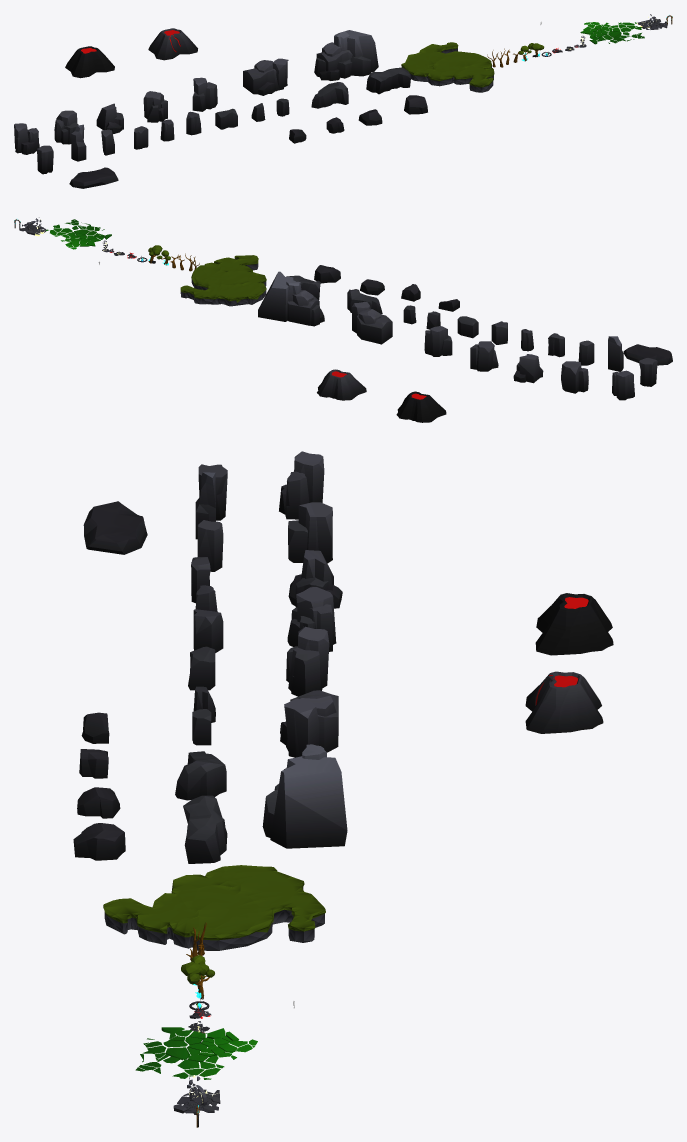
File: Todo.fbx
3 views of the same model, one above another, from view 1: azimuth 30°, elevation 25°; view 2: azimuth 150°, elevation 25°; view 3: azimuth 270°, elevation 25° (orthographic). The views are drawn at different scales.
Visible parts, largest first — view 1: floating_island_1.1, Cliff_07, Cliff_06, Volcano1, Volcano2, Piso_Detalle1, Cliff_Rock_11, Cliff_05, Cliff_Rock_10, Rock_Floor_01, Cliff_01, Cliff_04 (+11 smaller); view 2: floating_island_1.1, Cliff_07, Cliff_06, Volcano2, Volcano1, Piso_Detalle1, Cliff_02, Cliff_05, Cliff_04, Rock_Floor_01, Cliff_03, Cliff_01 (+9 smaller); view 3: floating_island_1.1, Cliff_07, Volcano2, Volcano1, Piso_Detalle1, Cliff_06, Rock_Floor_01, Cliff_Rock_11, Cliff_05, Cliff_02, Cliff_01, Cliff_Rock_10 (+8 smaller).
Boxes of the visible parts, x1,y1,x2,y2 form: floating_island_1.1: (401,42,494,92); Cliff_07: (314,30,378,80); Cliff_06: (243,58,288,95); Volcano1: (65,46,114,78); Volcano2: (148,28,197,60); Piso_Detalle1: (580,22,644,44); Cliff_Rock_11: (366,67,410,94); Cliff_05: (192,77,217,111); Cliff_Rock_10: (311,82,348,108); Rock_Floor_01: (69,167,118,188); Cliff_01: (14,123,39,154); Cliff_04: (143,91,167,122); floating_island_1.1: (180,255,266,306); Cliff_07: (258,271,324,326); Cliff_06: (351,302,392,344); Volcano2: (317,369,366,400); Volcano1: (396,391,446,422); Piso_Detalle1: (46,219,111,249); Cliff_02: (561,361,588,393); Cliff_05: (424,326,452,356); Cliff_04: (470,341,498,371); Rock_Floor_01: (623,344,672,365); Cliff_03: (513,354,543,383); Cliff_01: (612,370,634,400); floating_island_1.1: (103,865,325,950); Cliff_07: (262,744,347,848); Volcano2: (525,671,603,733); Volcano1: (535,593,613,655); Piso_Detalle1: (135,1027,257,1079); Cliff_06: (280,690,338,757); Rock_Floor_01: (83,501,147,554); Cliff_Rock_11: (183,795,227,863); Cliff_05: (286,626,329,696); Cliff_02: (288,502,332,563); Cliff_01: (279,451,324,519); Cliff_Rock_10: (175,751,226,800).
Size of the model in its own units: 15464 by 1051 by 5728.
Materials: 1 (1 with a texture image).
